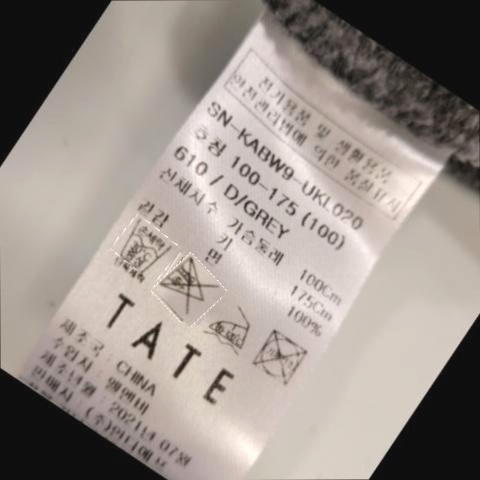DN_tumble_dry: (254, 332, 309, 389)
hand_wash: (115, 223, 170, 274)
iron_low: (206, 303, 254, 354)
non_chlorine_bleach: (162, 257, 217, 313)
